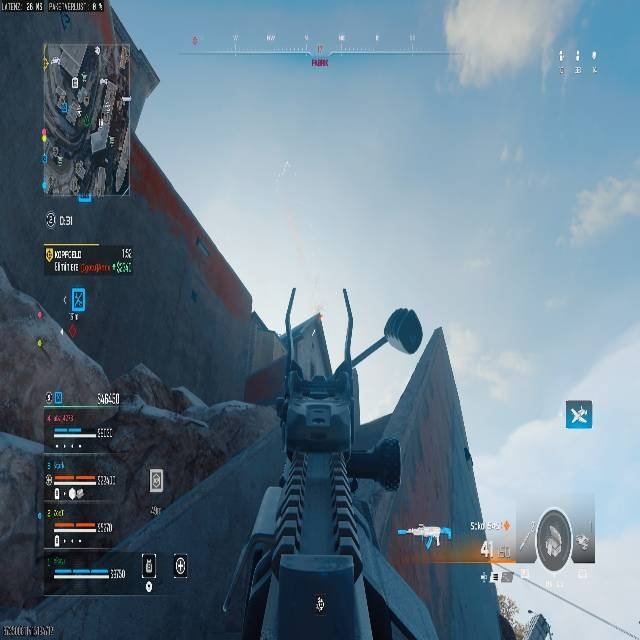player: (480, 540, 491, 557)
